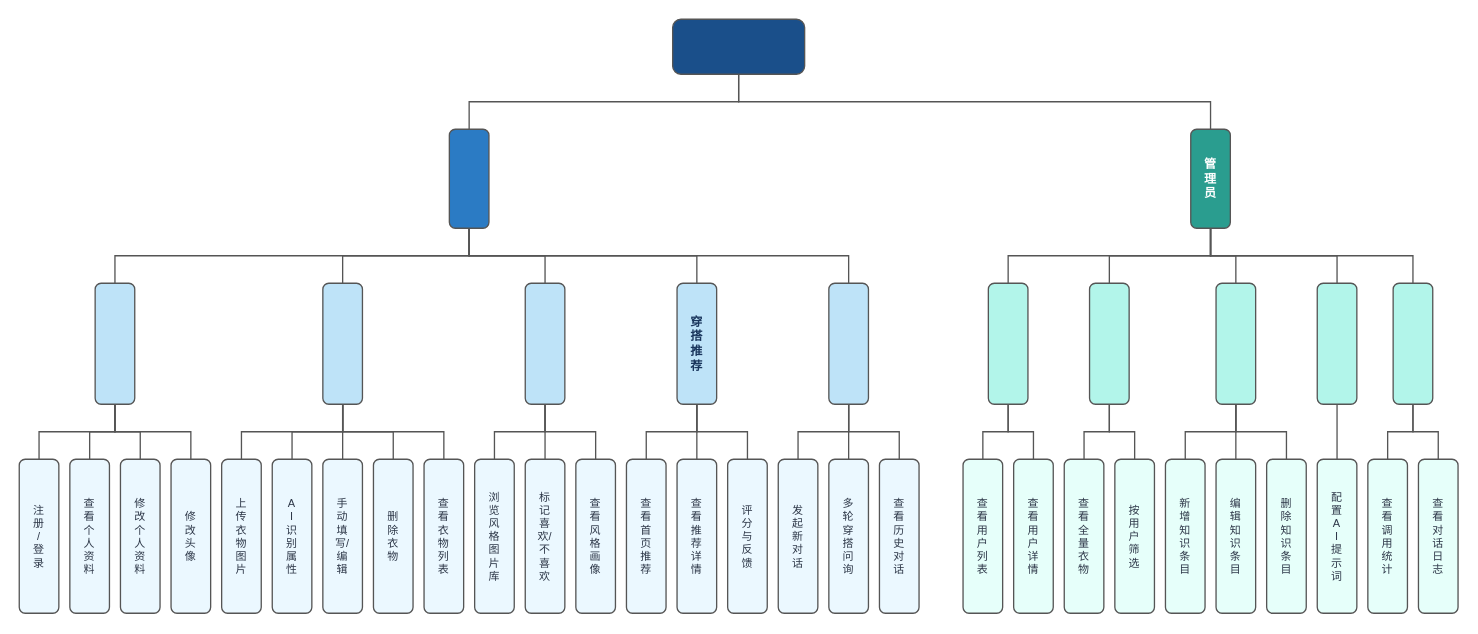
The diagram is 1478 pixels wide and 634 high, and some of its shapes have lost their labels. Each missing label, with the box of its shape:
A I 对 话: (828, 282, 869, 404)
A I 监 控: (1392, 282, 1433, 404)
Ecru 智能穿搭系统: (671, 18, 805, 74)
普 通 用 户: (448, 128, 489, 228)
用 户 管 理: (987, 282, 1028, 404)
知 识 库 管 理: (1215, 282, 1256, 404)
系 统 配 置: (1316, 282, 1357, 404)
衣 物 台 账: (1088, 282, 1129, 404)
衣 物 管 理: (322, 282, 363, 404)
账 号 管 理: (94, 282, 135, 404)
风 格 偏 好: (524, 282, 565, 404)
